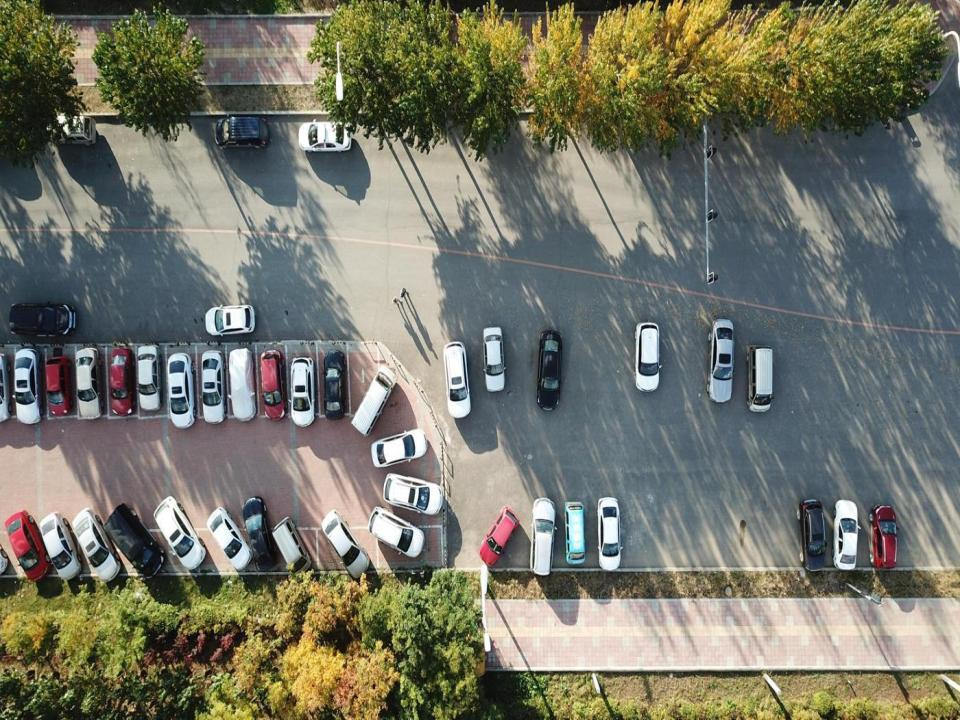car: (153, 495, 206, 569), (319, 508, 370, 577), (72, 508, 118, 584), (3, 511, 50, 581), (369, 505, 424, 559), (206, 507, 250, 572), (40, 513, 80, 583), (8, 299, 74, 340), (382, 472, 442, 516), (479, 507, 519, 567), (243, 498, 275, 573), (708, 318, 736, 402), (796, 501, 827, 573), (372, 429, 427, 469), (226, 349, 257, 419), (443, 342, 471, 419), (166, 354, 195, 428), (74, 347, 103, 421), (536, 330, 561, 411), (14, 348, 41, 423), (530, 500, 556, 576), (598, 497, 623, 572), (634, 322, 661, 391), (200, 352, 226, 423), (832, 499, 858, 570), (298, 118, 351, 152), (290, 356, 315, 428), (322, 346, 346, 420), (108, 348, 134, 416), (870, 504, 897, 568), (215, 116, 270, 147), (262, 350, 286, 421), (480, 327, 506, 392), (206, 305, 255, 339), (137, 346, 162, 412), (44, 357, 70, 417)
van: (104, 504, 165, 580), (350, 366, 395, 436), (273, 516, 311, 579), (747, 345, 773, 413), (47, 116, 98, 148), (564, 501, 586, 567)
